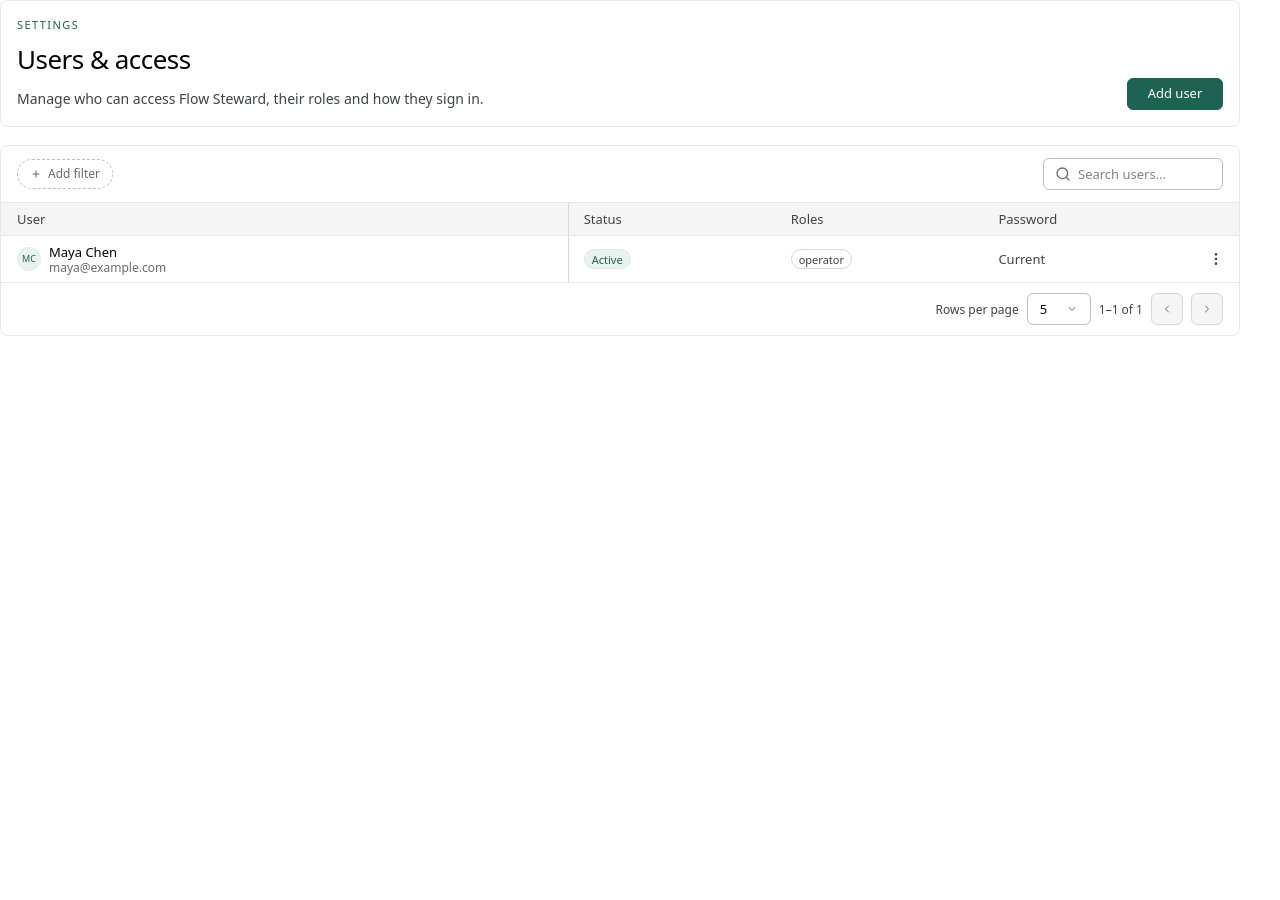
SettingsUsersPage › requires explicit confirmation before deleting another user
Click the button named "Actions for Maya Chen" at (1216, 259), box [1200,243,1232,275]
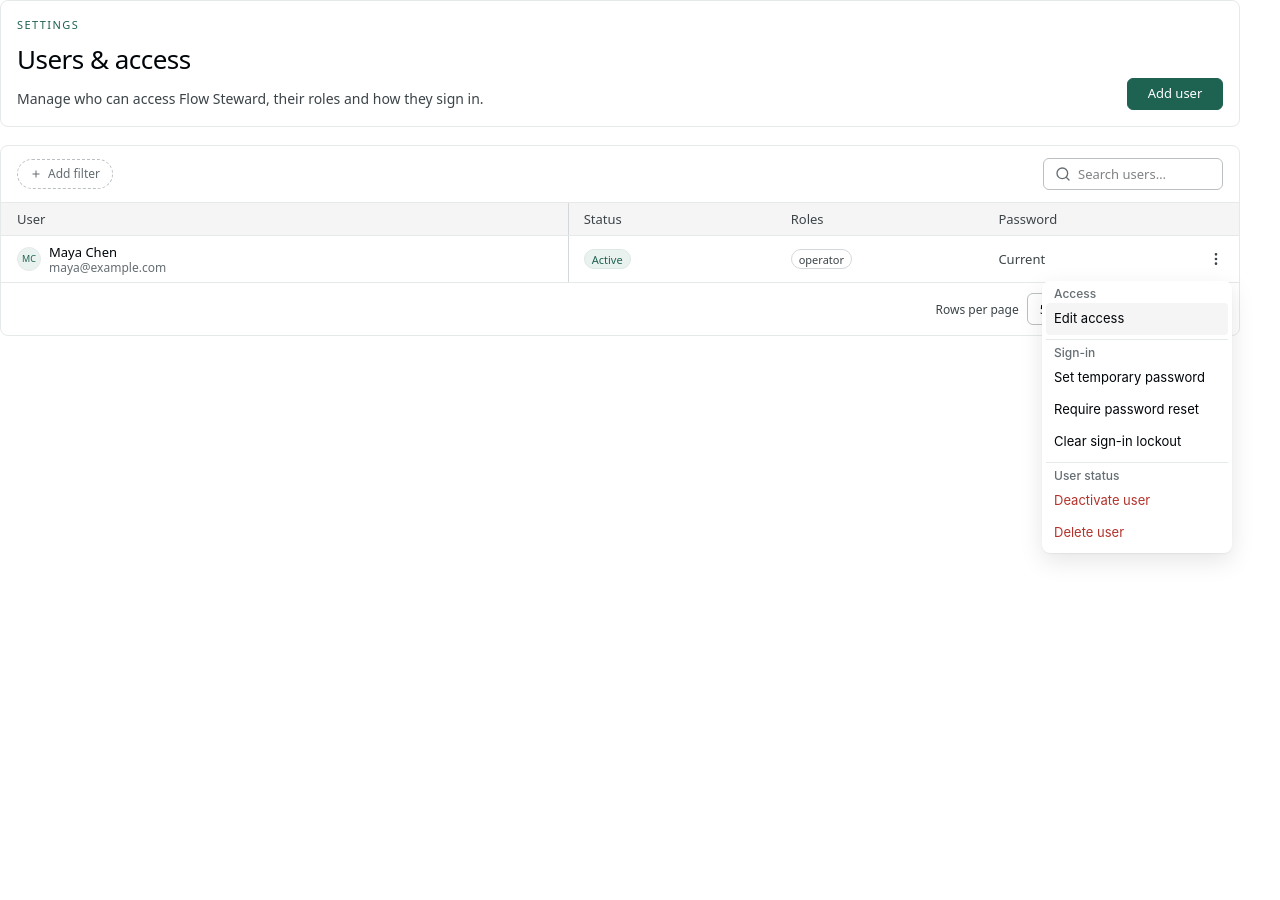
Click the menu item "Delete user" at (1137, 533), box [1046,517,1228,549]
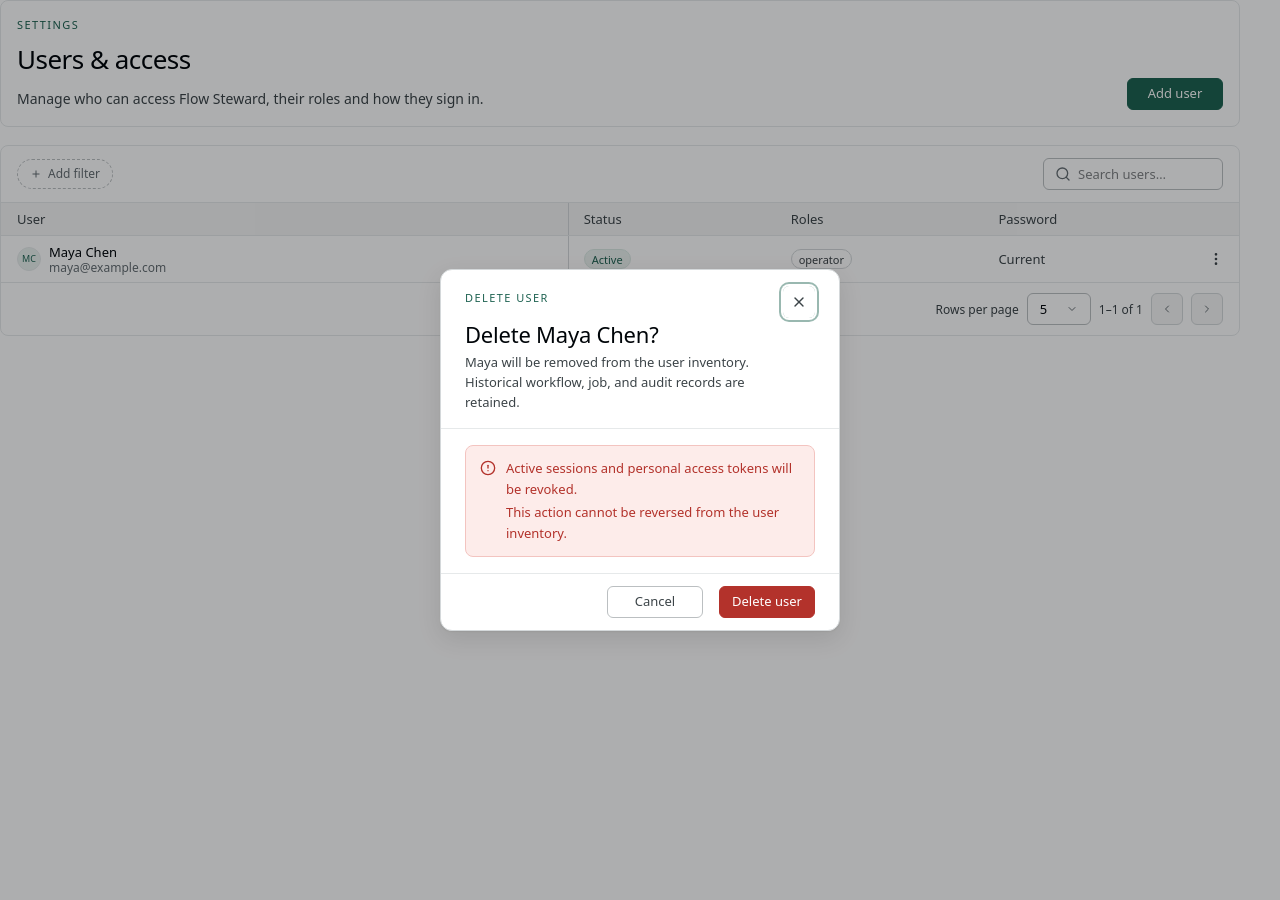
Expected: the text "Active sessions and personal access tokens will be revoked." is shown, [506,458,802,500]
Click the button "Delete user" at (767, 602), box [719,586,815,618]
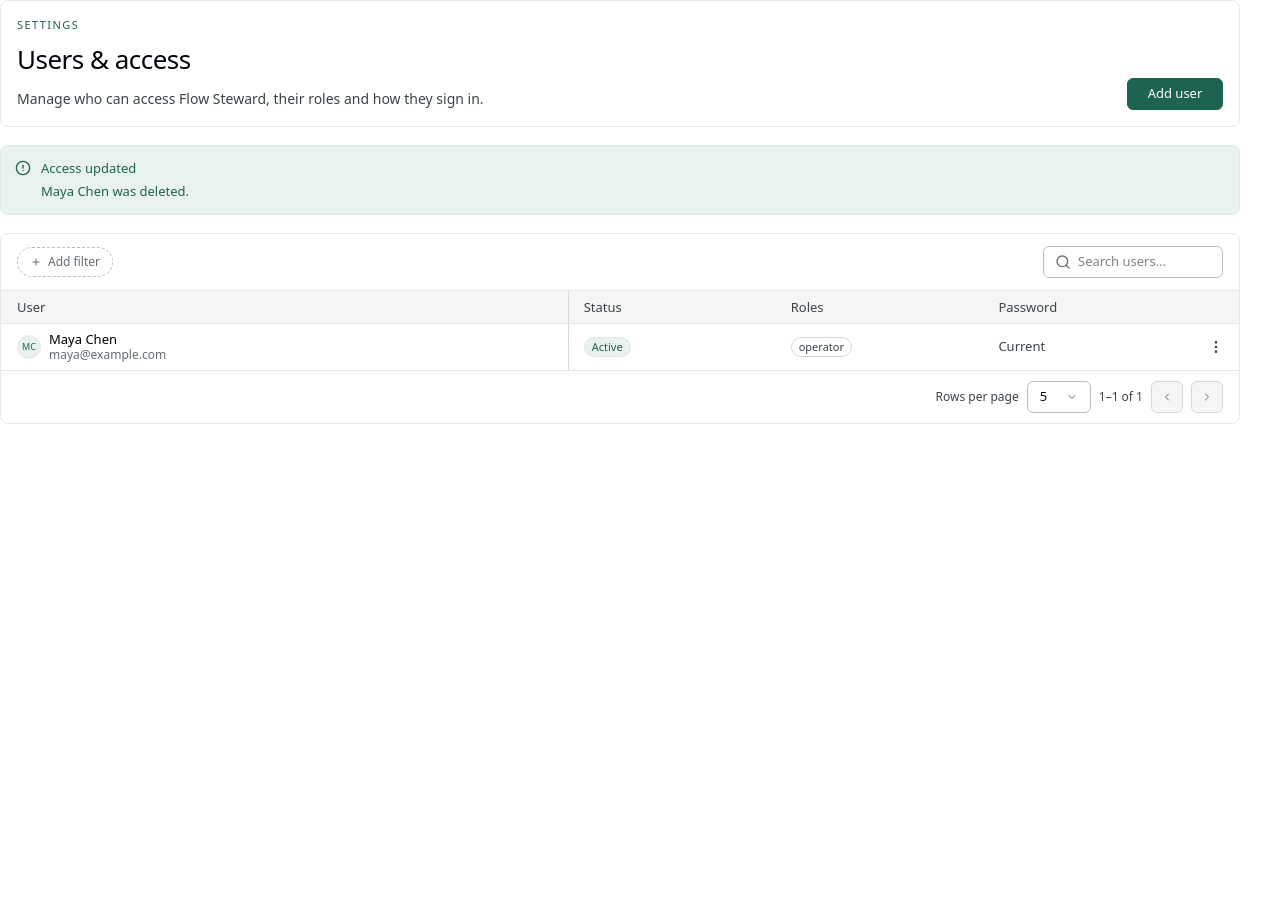
Expected: the text "Maya Chen was deleted." is shown, [41,182,189,200]
